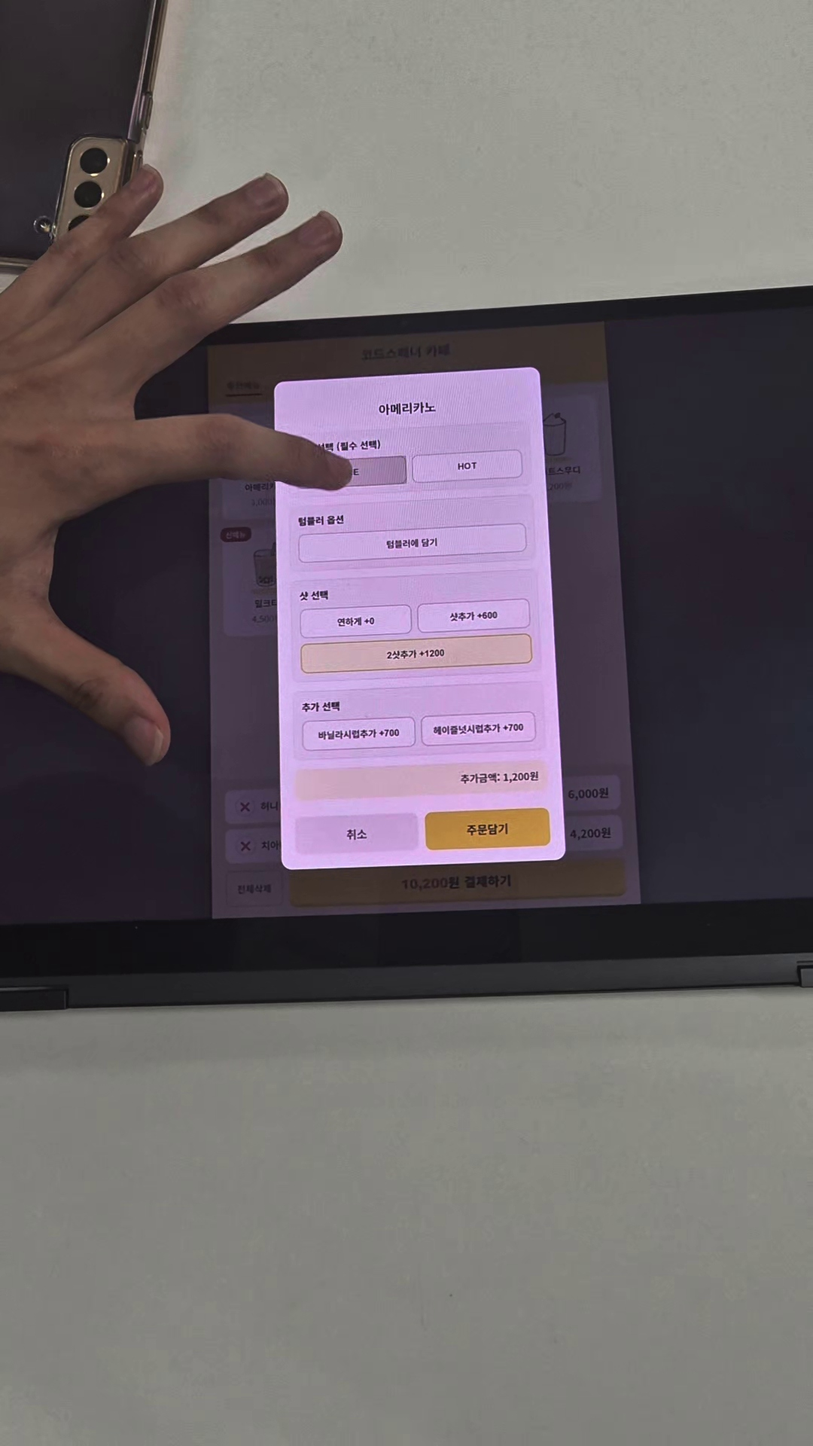action_button: (289, 858, 627, 904), (425, 807, 551, 851), (295, 814, 418, 854), (226, 872, 283, 906)
menu_price: (567, 786, 611, 803), (569, 826, 613, 842)
option_button: (300, 634, 533, 674), (299, 524, 526, 563), (302, 717, 415, 752), (421, 712, 536, 746), (301, 604, 411, 638), (417, 599, 530, 632), (412, 450, 522, 483), (298, 456, 408, 489)
popup_modal: (274, 367, 566, 871)
